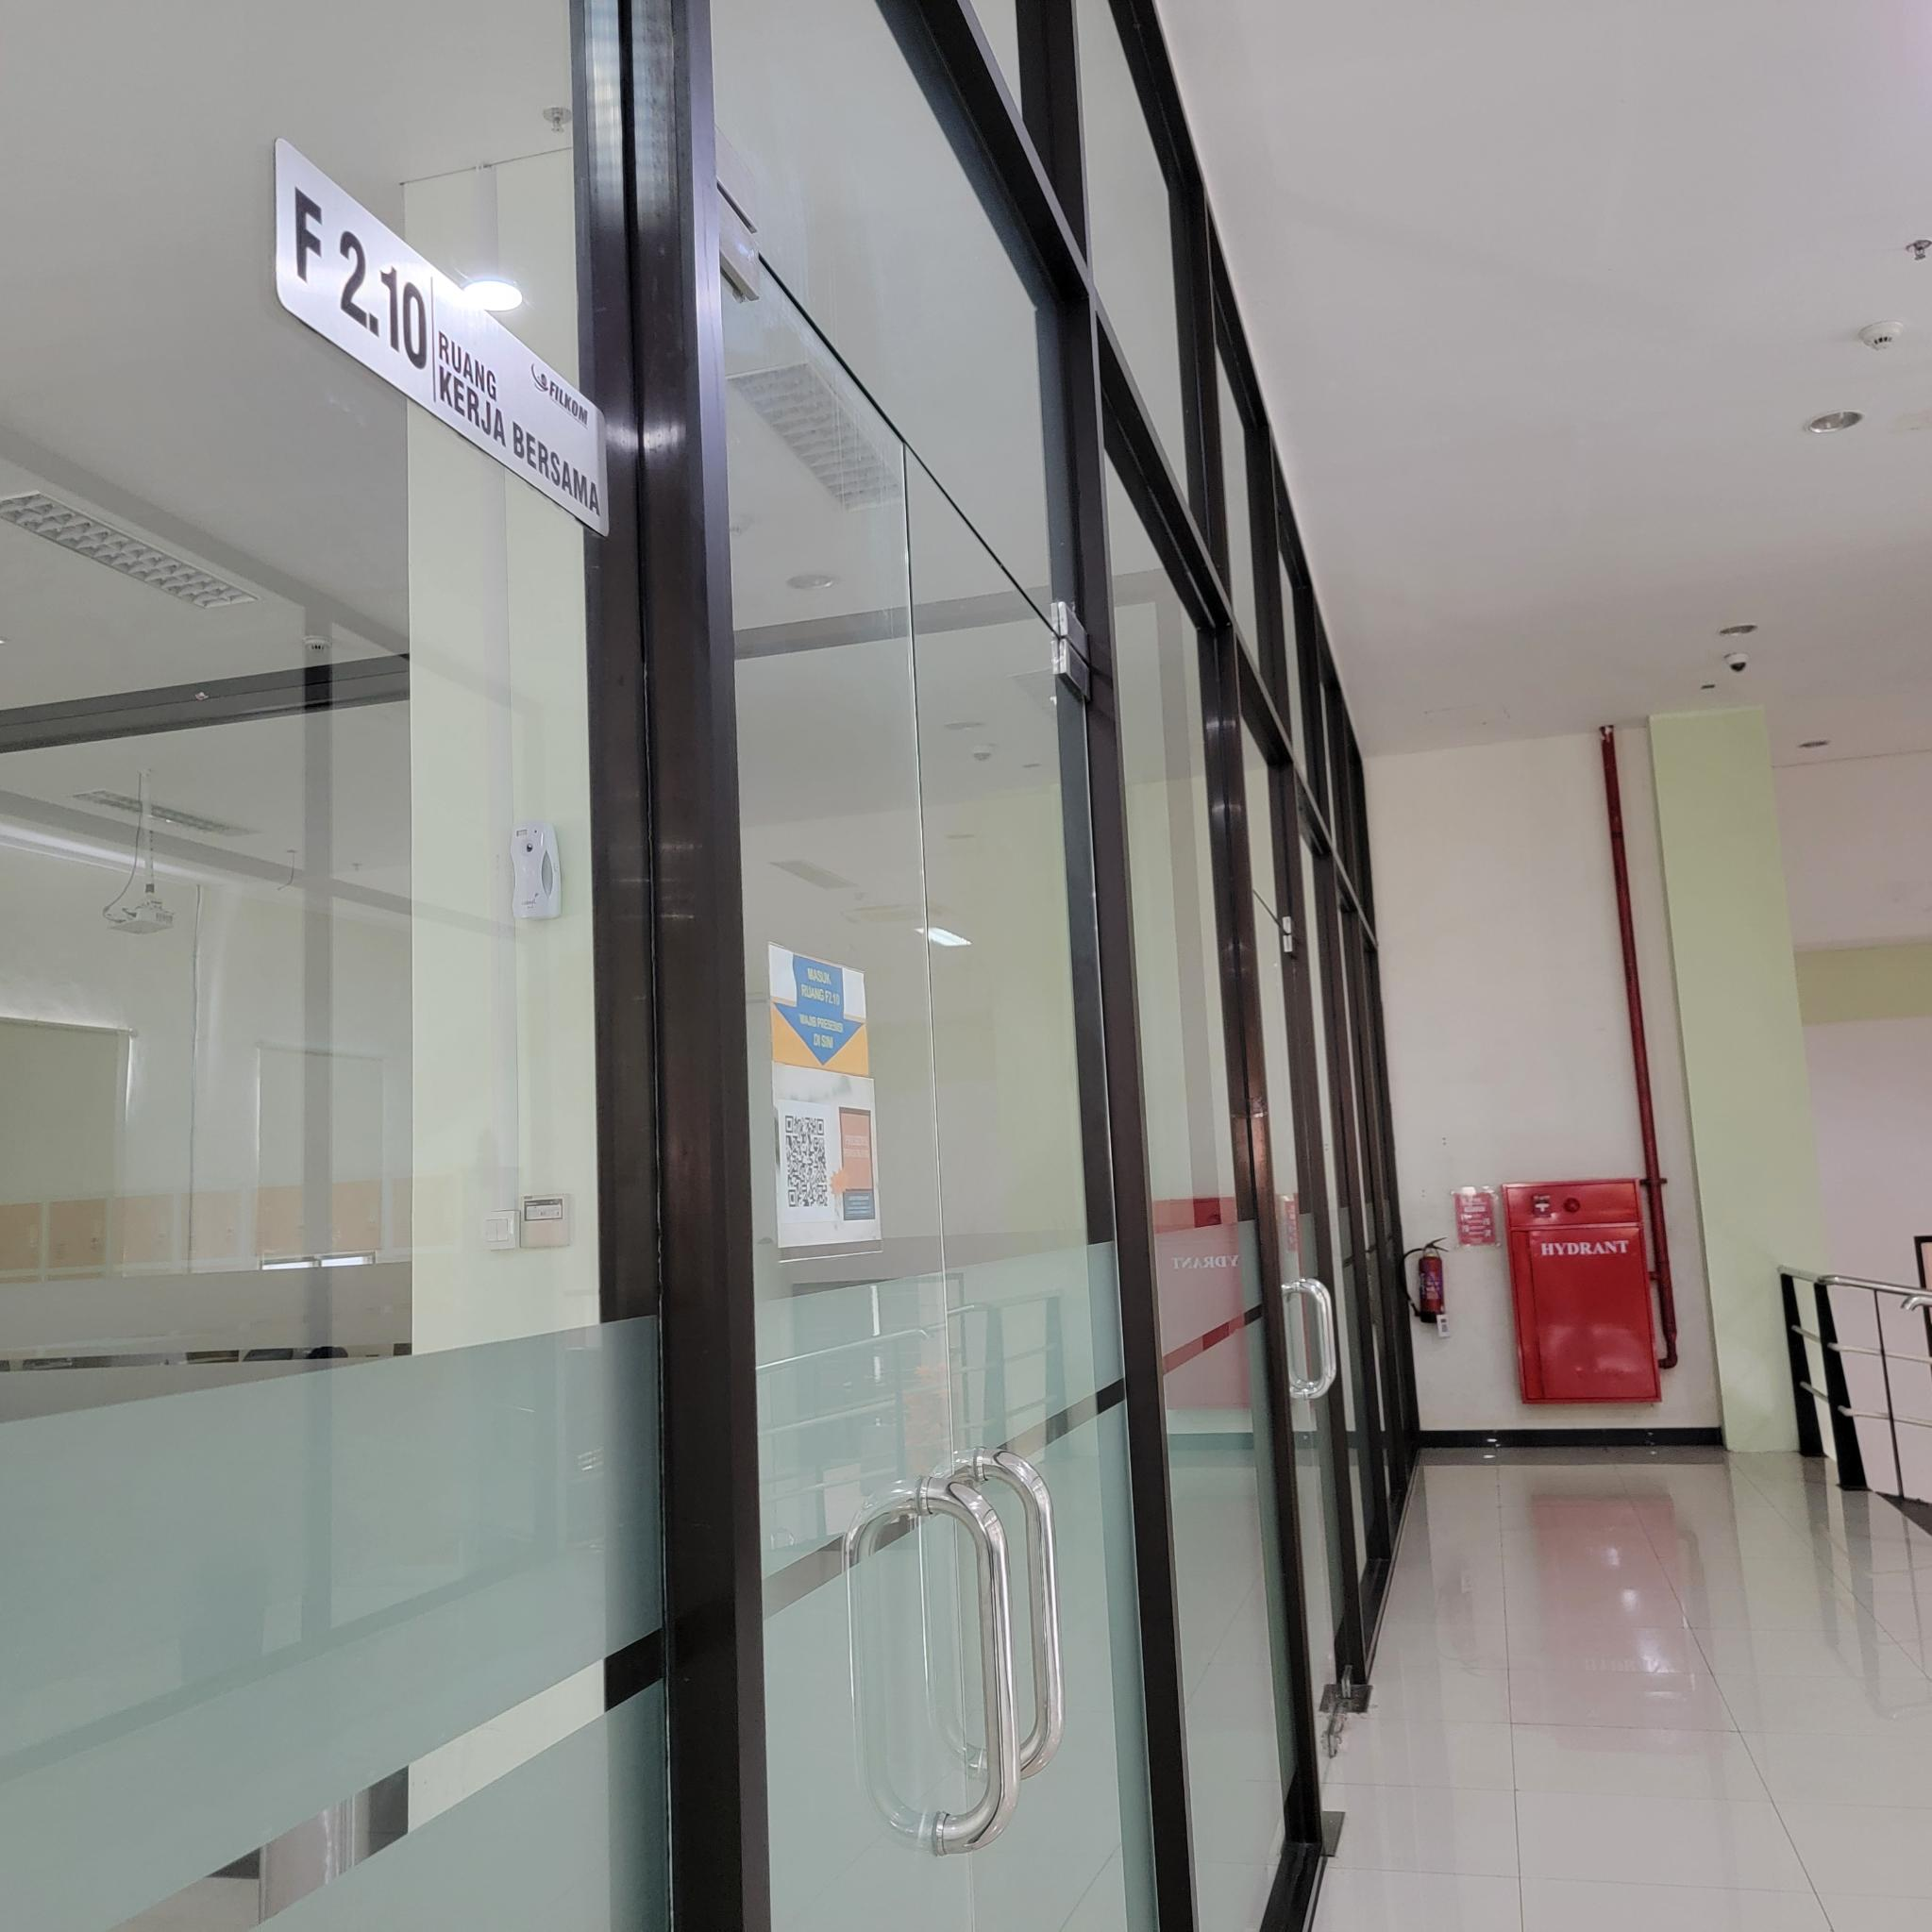plate: (272, 129, 612, 545)
